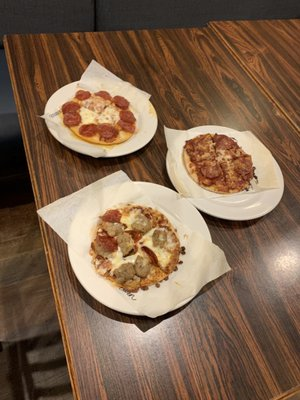curry: (4, 19, 300, 400)
sandwich: (88, 203, 182, 292), (60, 89, 139, 146)
